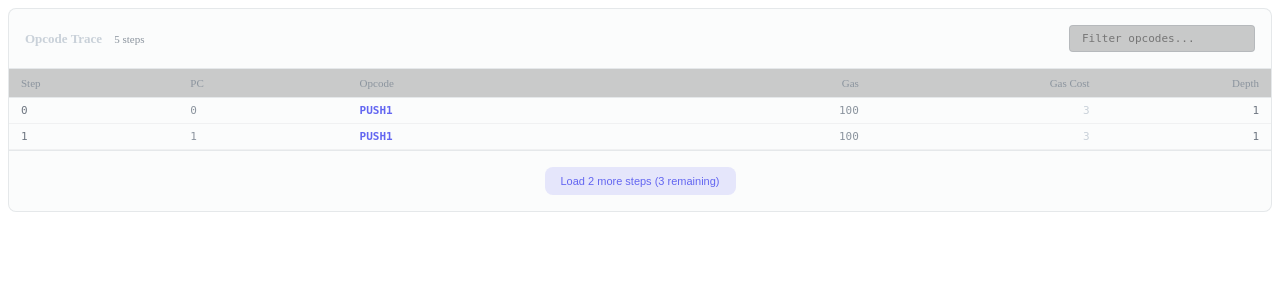
Test: OpcodeViewer › resets pagination when filter changes
Click the button "Load 2 more steps (3 remaining)" at x=640, y=181, box [544,167,736,195]
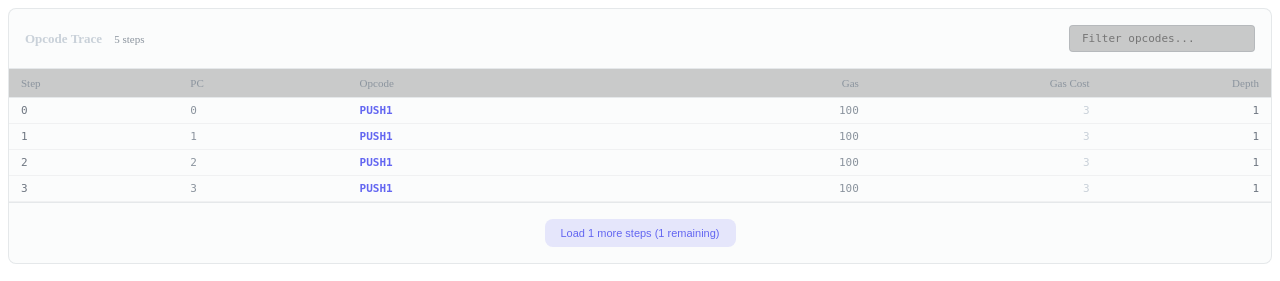
Expected: the text "PUSH1" is shown 4 times, [360,104,393,117]; [360,130,393,143]; [360,156,393,169]; [360,182,393,195]
Type "push" into the field labelled "Filter opcodes" at x=1162, y=38, box [1069,25,1255,52]
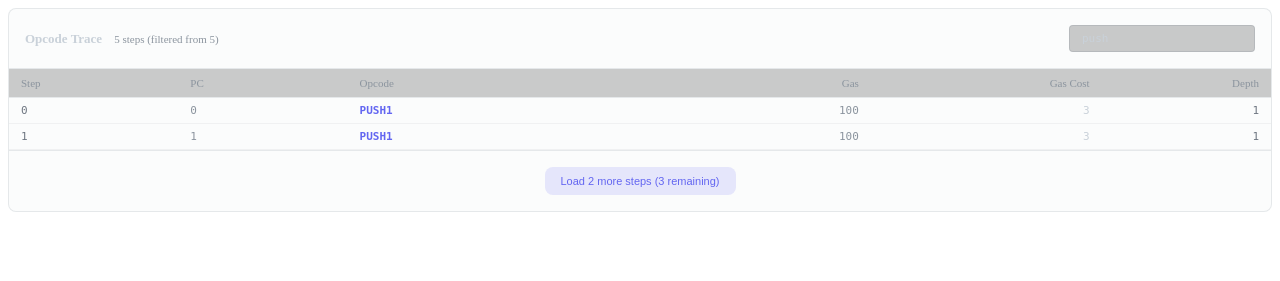
Expected: the text "PUSH1" is shown 2 times, [360,104,393,117]; [360,130,393,143]
